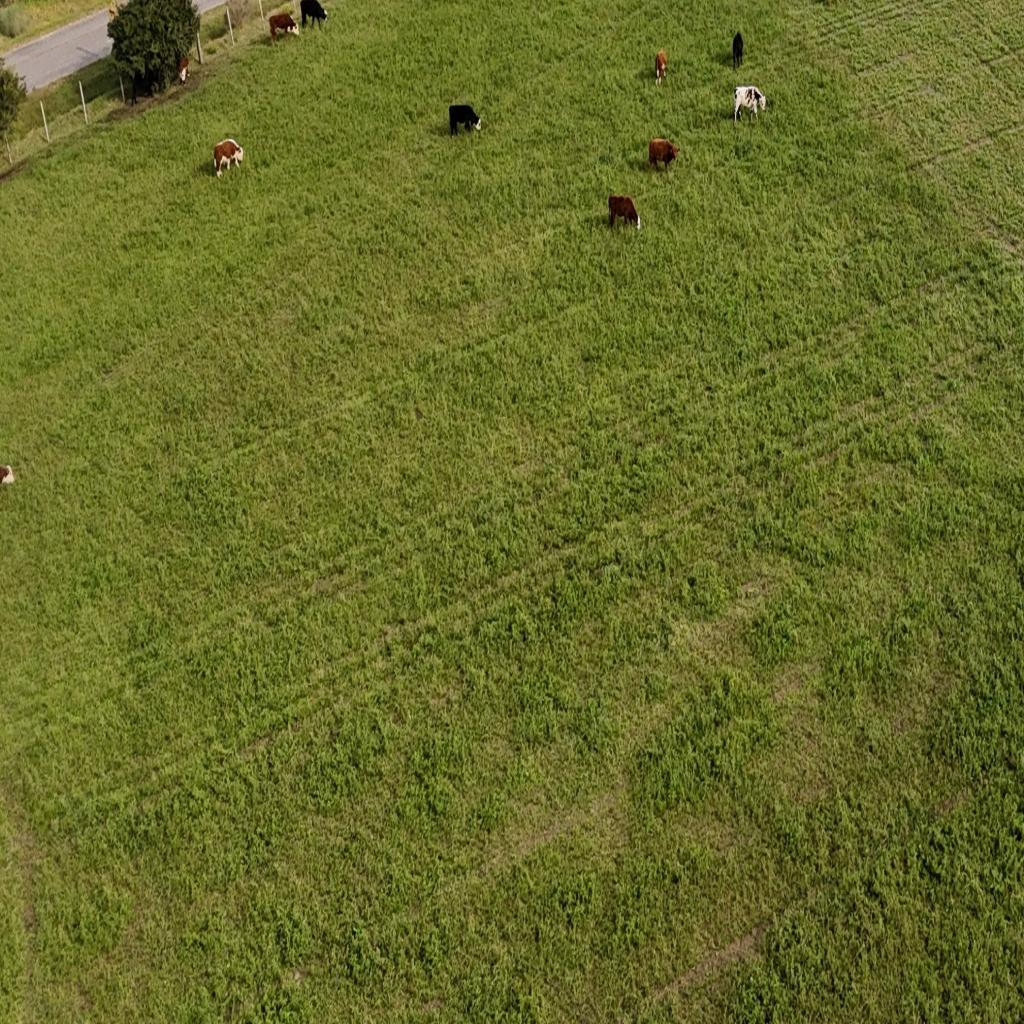cow: (733, 85, 766, 125), (212, 138, 244, 179), (648, 137, 680, 173), (609, 194, 639, 232), (449, 104, 481, 137), (269, 12, 299, 44), (300, 0, 328, 28), (732, 30, 745, 70), (654, 48, 668, 82), (177, 55, 190, 87)
